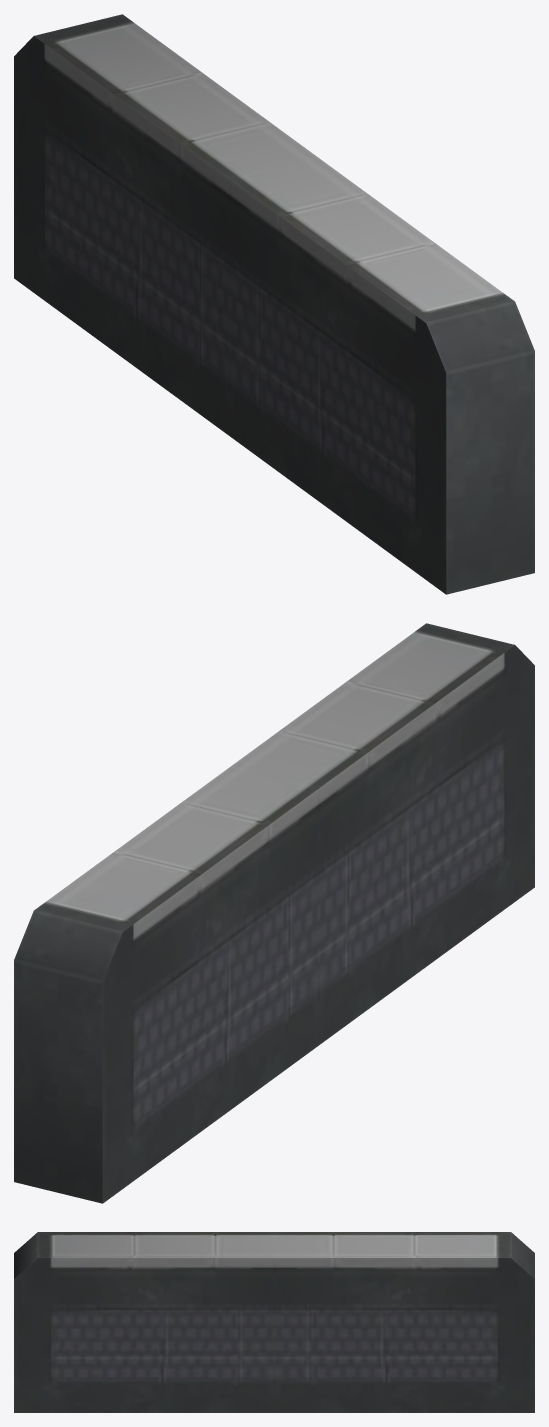
File: Part - Fence 03-B8oCBqqf.glb
3 views of the same model, one above another, from view 1: azimuth 30°, elevation 25°; view 2: azimuth 150°, elevation 25°; view 3: azimuth 270°, elevation 25° (orthographic). The views are drawn at different scales.
Parts seen in each view (by area): view 1: Fence_03; view 2: Fence_03; view 3: Fence_03.
Part boxes in pixels (left/top/right/bottom): Fence_03: left=14, top=14, right=534, bottom=594; Fence_03: left=14, top=623, right=534, bottom=1203; Fence_03: left=14, top=1232, right=534, bottom=1412.
Bounding box in the file's own units: 0.1991 × 0.5505 × 1.68.
Materials: 1 (1 with a texture image).
